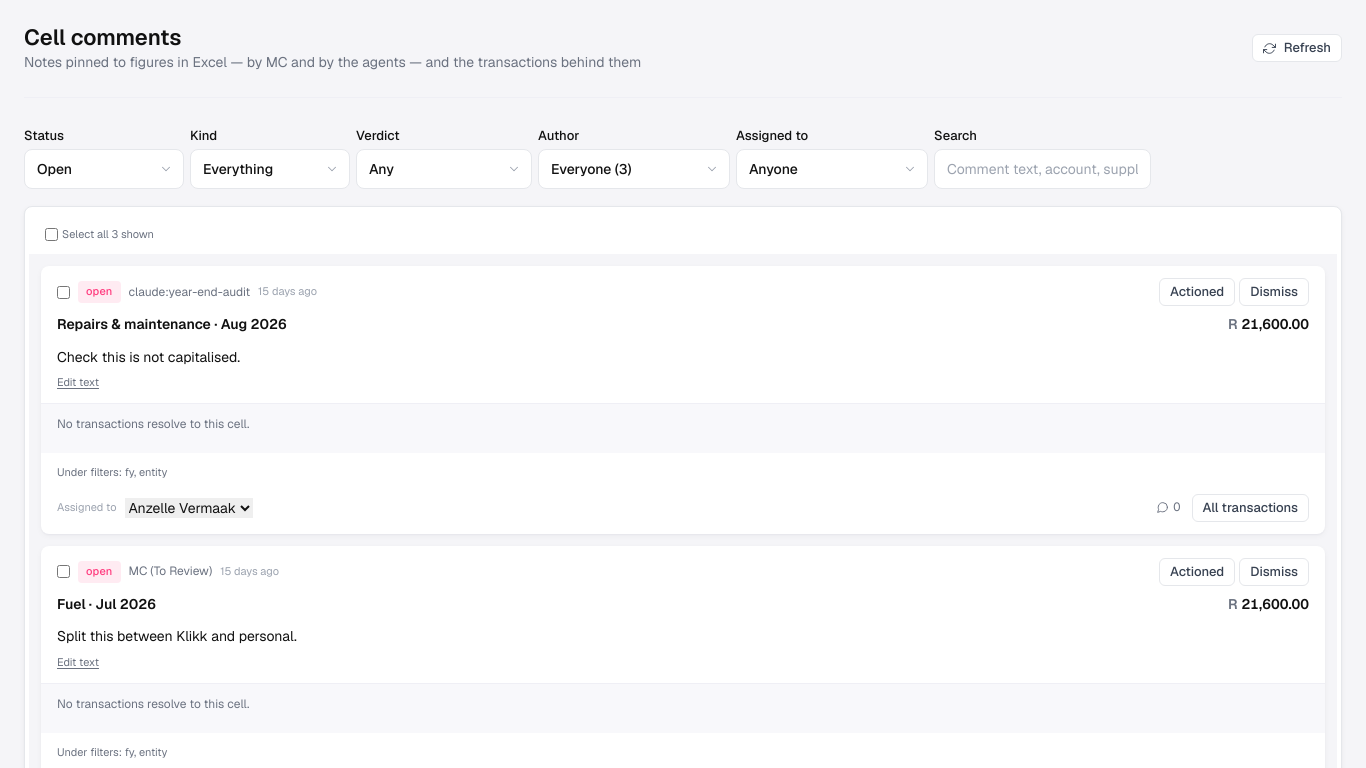
Scenario: AuditComments — saving the text › sends the id and the text, and shows the SERVER's stored wording back
The width and height of the screenshot is (1366, 768).
Click the button "Edit text" below "Check this is not capitalised." at coordinates (78, 383), box [57,375,99,391]
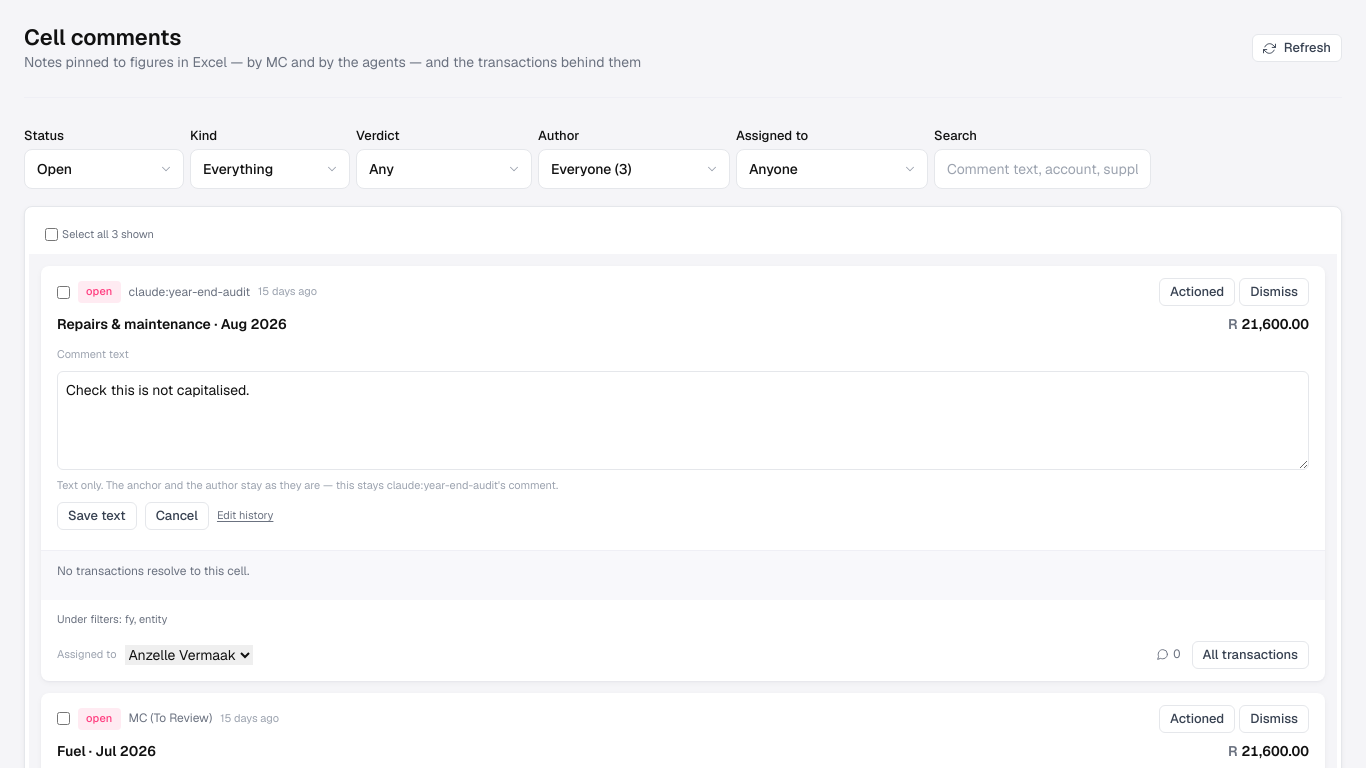
Replace the text in the text box labelled "Comment text" with "  Capitalise this — it is an improvement.  " at coordinates (683, 420), box [57,371,1309,470]
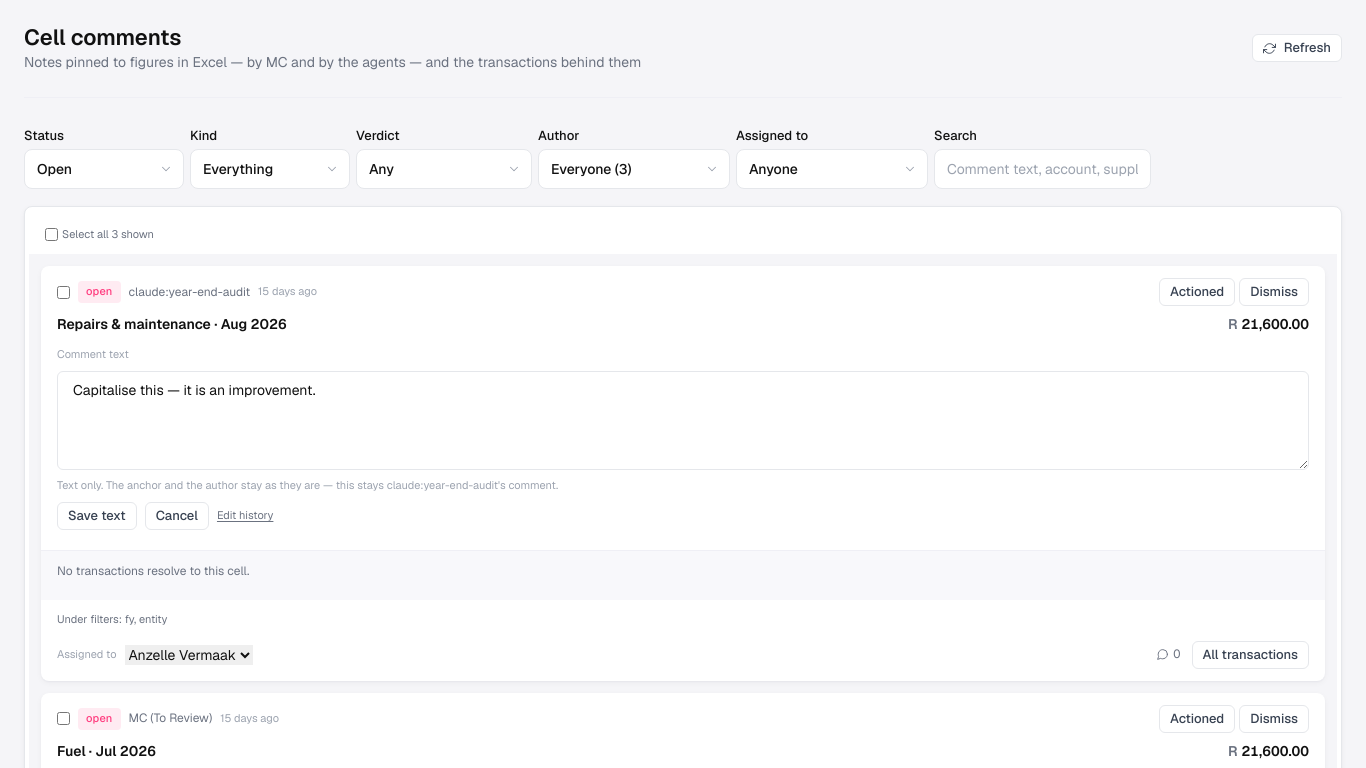
Click the button "Save text" at coordinates (97, 516), box [57,502,137,530]
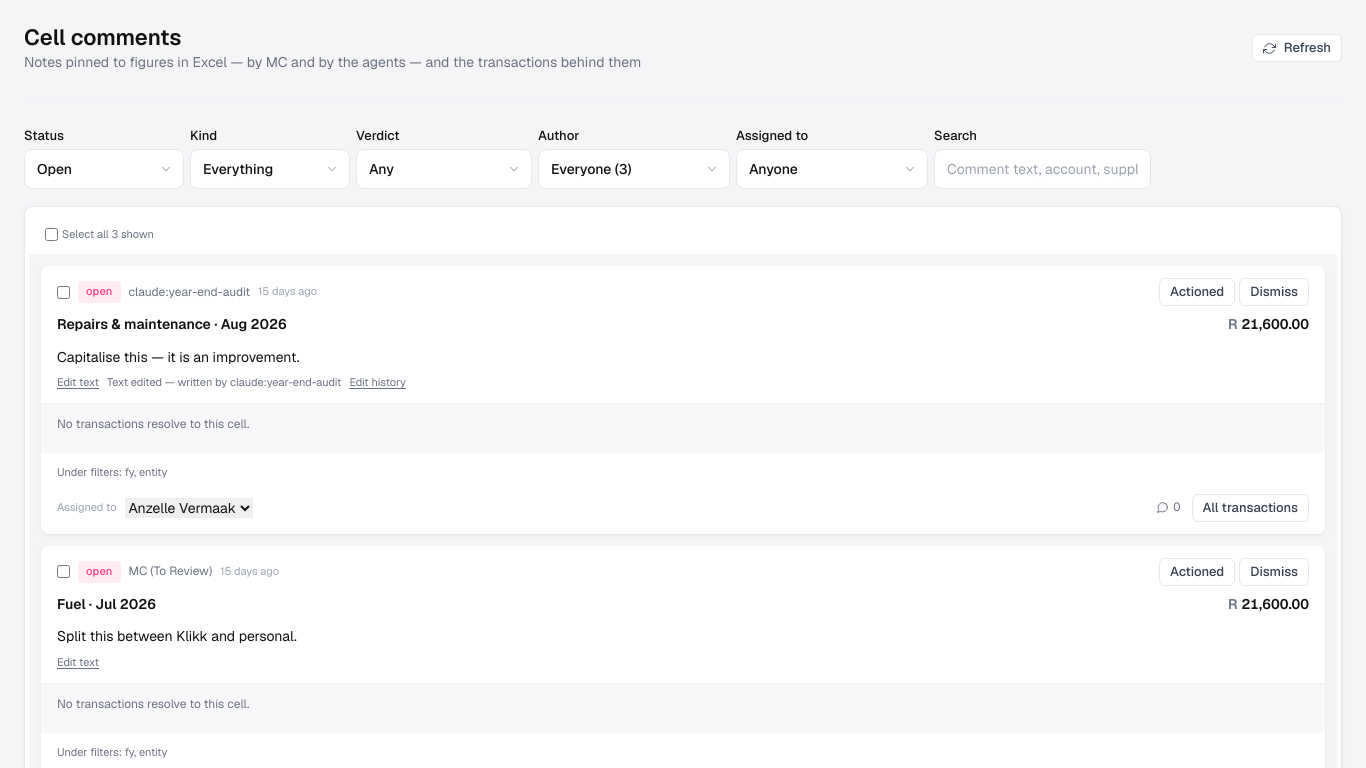
Result: the text with test id "cc-text-41" reads "Capitalise this — it is an improvement." at [57,348,300,366]
